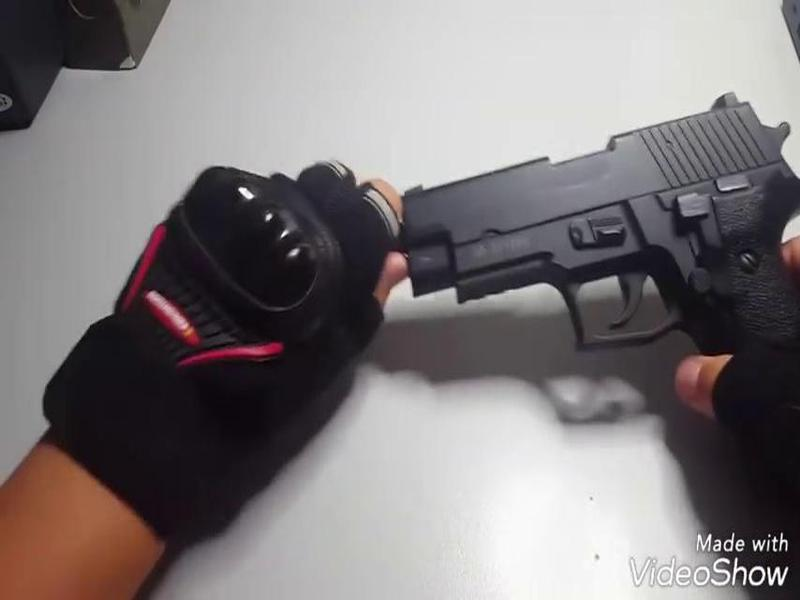Pistola: (399, 81, 800, 368)
